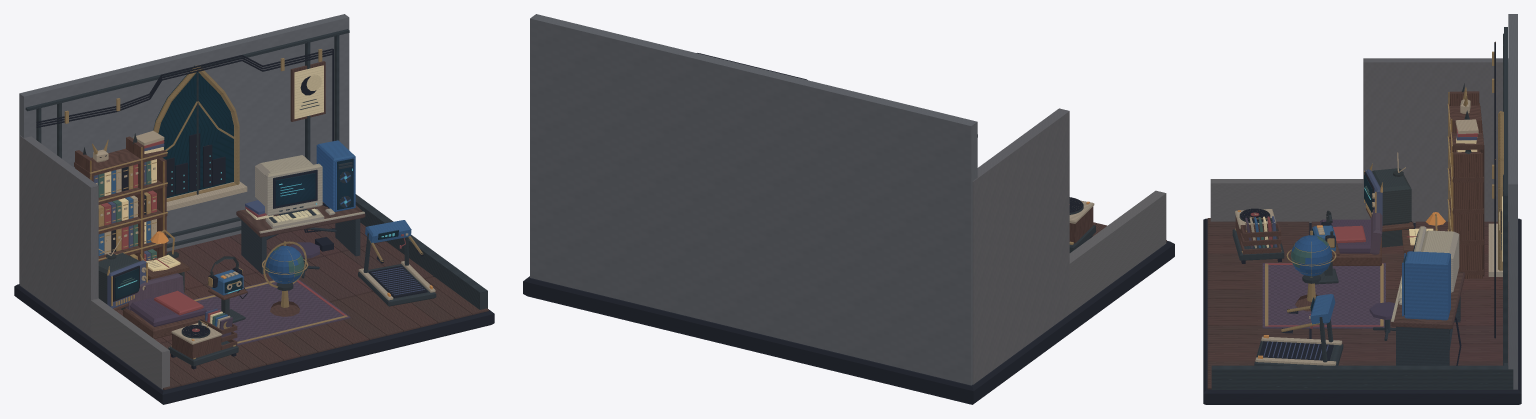
File: diorama.fa4e89c10ca1.glb
3 views of the same model, side by side, from view 1: azimuth 30°, elevation 25°; view 2: azimuth 150°, elevation 25°; view 3: azimuth 270°, elevation 25° (orthographic). The views are drawn at different scales.
Parts seen in each view (by area): view 1: room-shell, body__play, body__read, body__move, body__collect, body__watch, body__listen, surface__travel, body__travel; view 2: room-shell, body__collect; view 3: room-shell, body__play, body__read, body__move, body__watch, body__collect, surface__travel, body__listen, body__travel.
Part boxes in pixels (x1,y1,x2,y2): room-shell: (14,14,494,404); body__play: (236,140,365,278); body__read: (74,130,189,292); body__move: (358,220,436,306); body__collect: (168,308,238,369); body__watch: (98,238,147,310); body__listen: (208,256,247,323); surface__travel: (266,245,304,283); body__travel: (262,241,308,316); room-shell: (523,14,1174,404); body__collect: (1069,200,1095,252); room-shell: (1203,14,1521,404); body__play: (1369,226,1464,365); body__read: (1402,83,1484,278); body__move: (1254,294,1343,365); body__watch: (1364,152,1414,247); body__collect: (1232,209,1284,263); surface__travel: (1290,235,1332,276); body__listen: (1312,210,1339,284); body__travel: (1286,230,1336,311).
Size of the model in its own units: 9.7 by 5.72 by 7.5.
1 material, 1 textured.
